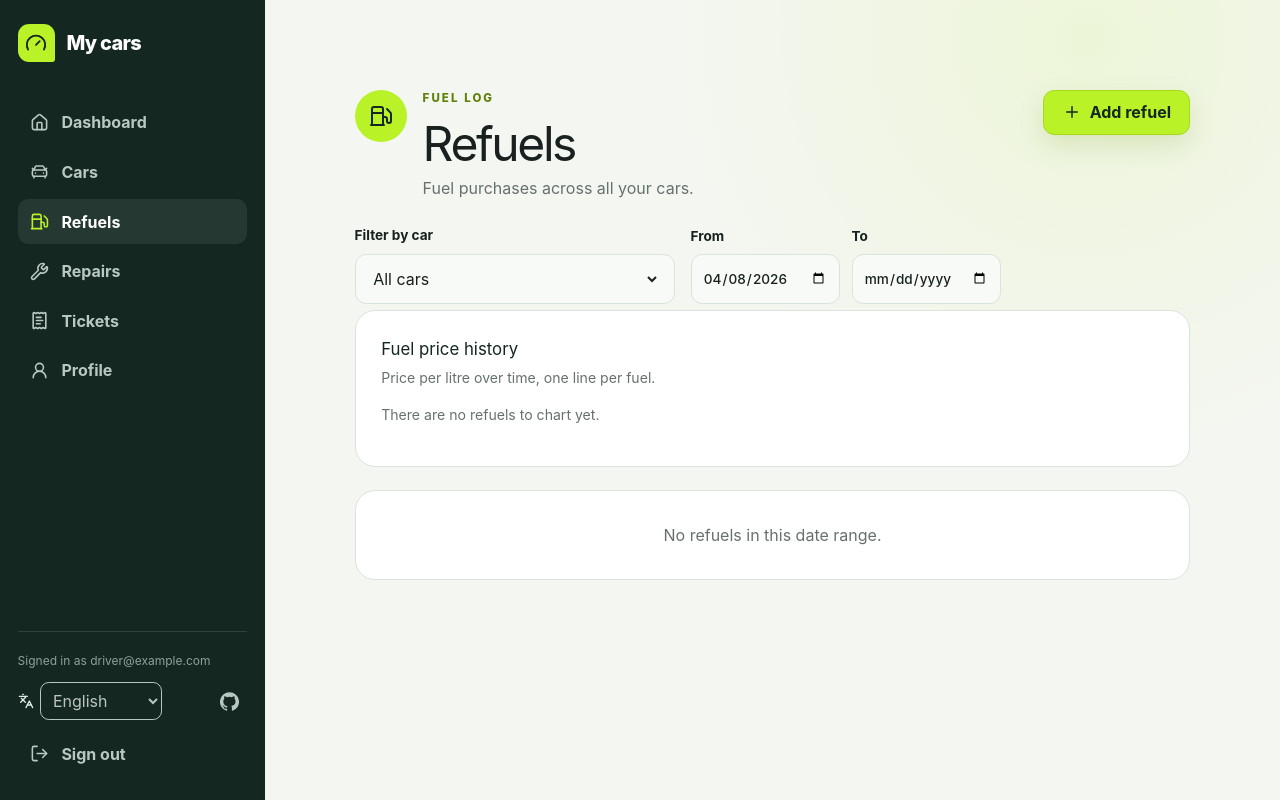
Test case: refuels › says when the range holds no refuels, in both languages
The width and height of the screenshot is (1280, 800).
Expected: the text "No refuels in this date range." is shown, [664,523,882,547]
Select "Deutsch" in the dropdown named "Language" at coordinates (101, 701), box [40,682,162,720]
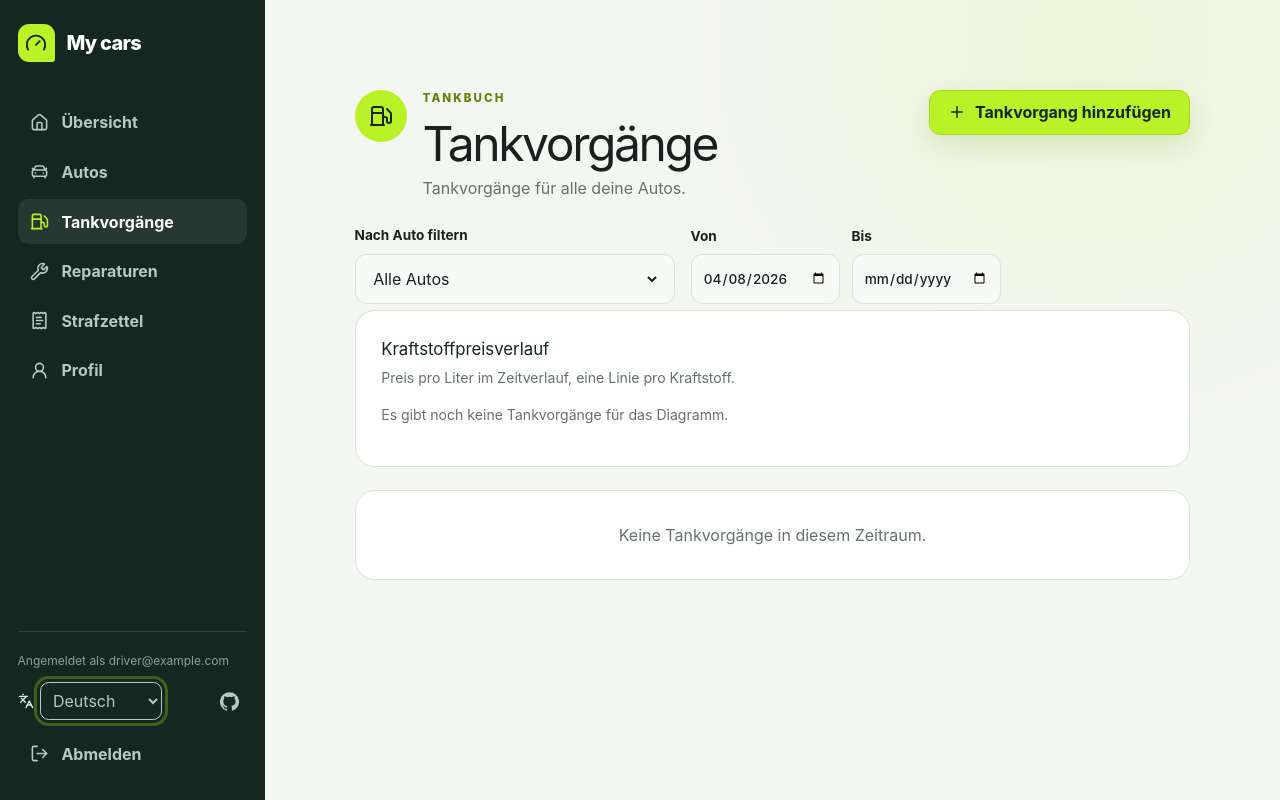
Result: the text "Keine Tankvorgänge in diesem Zeitraum." is shown at [619,523,926,547]
